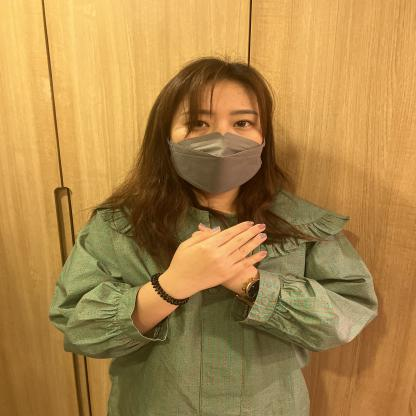Grieve: (113, 203, 336, 327)
